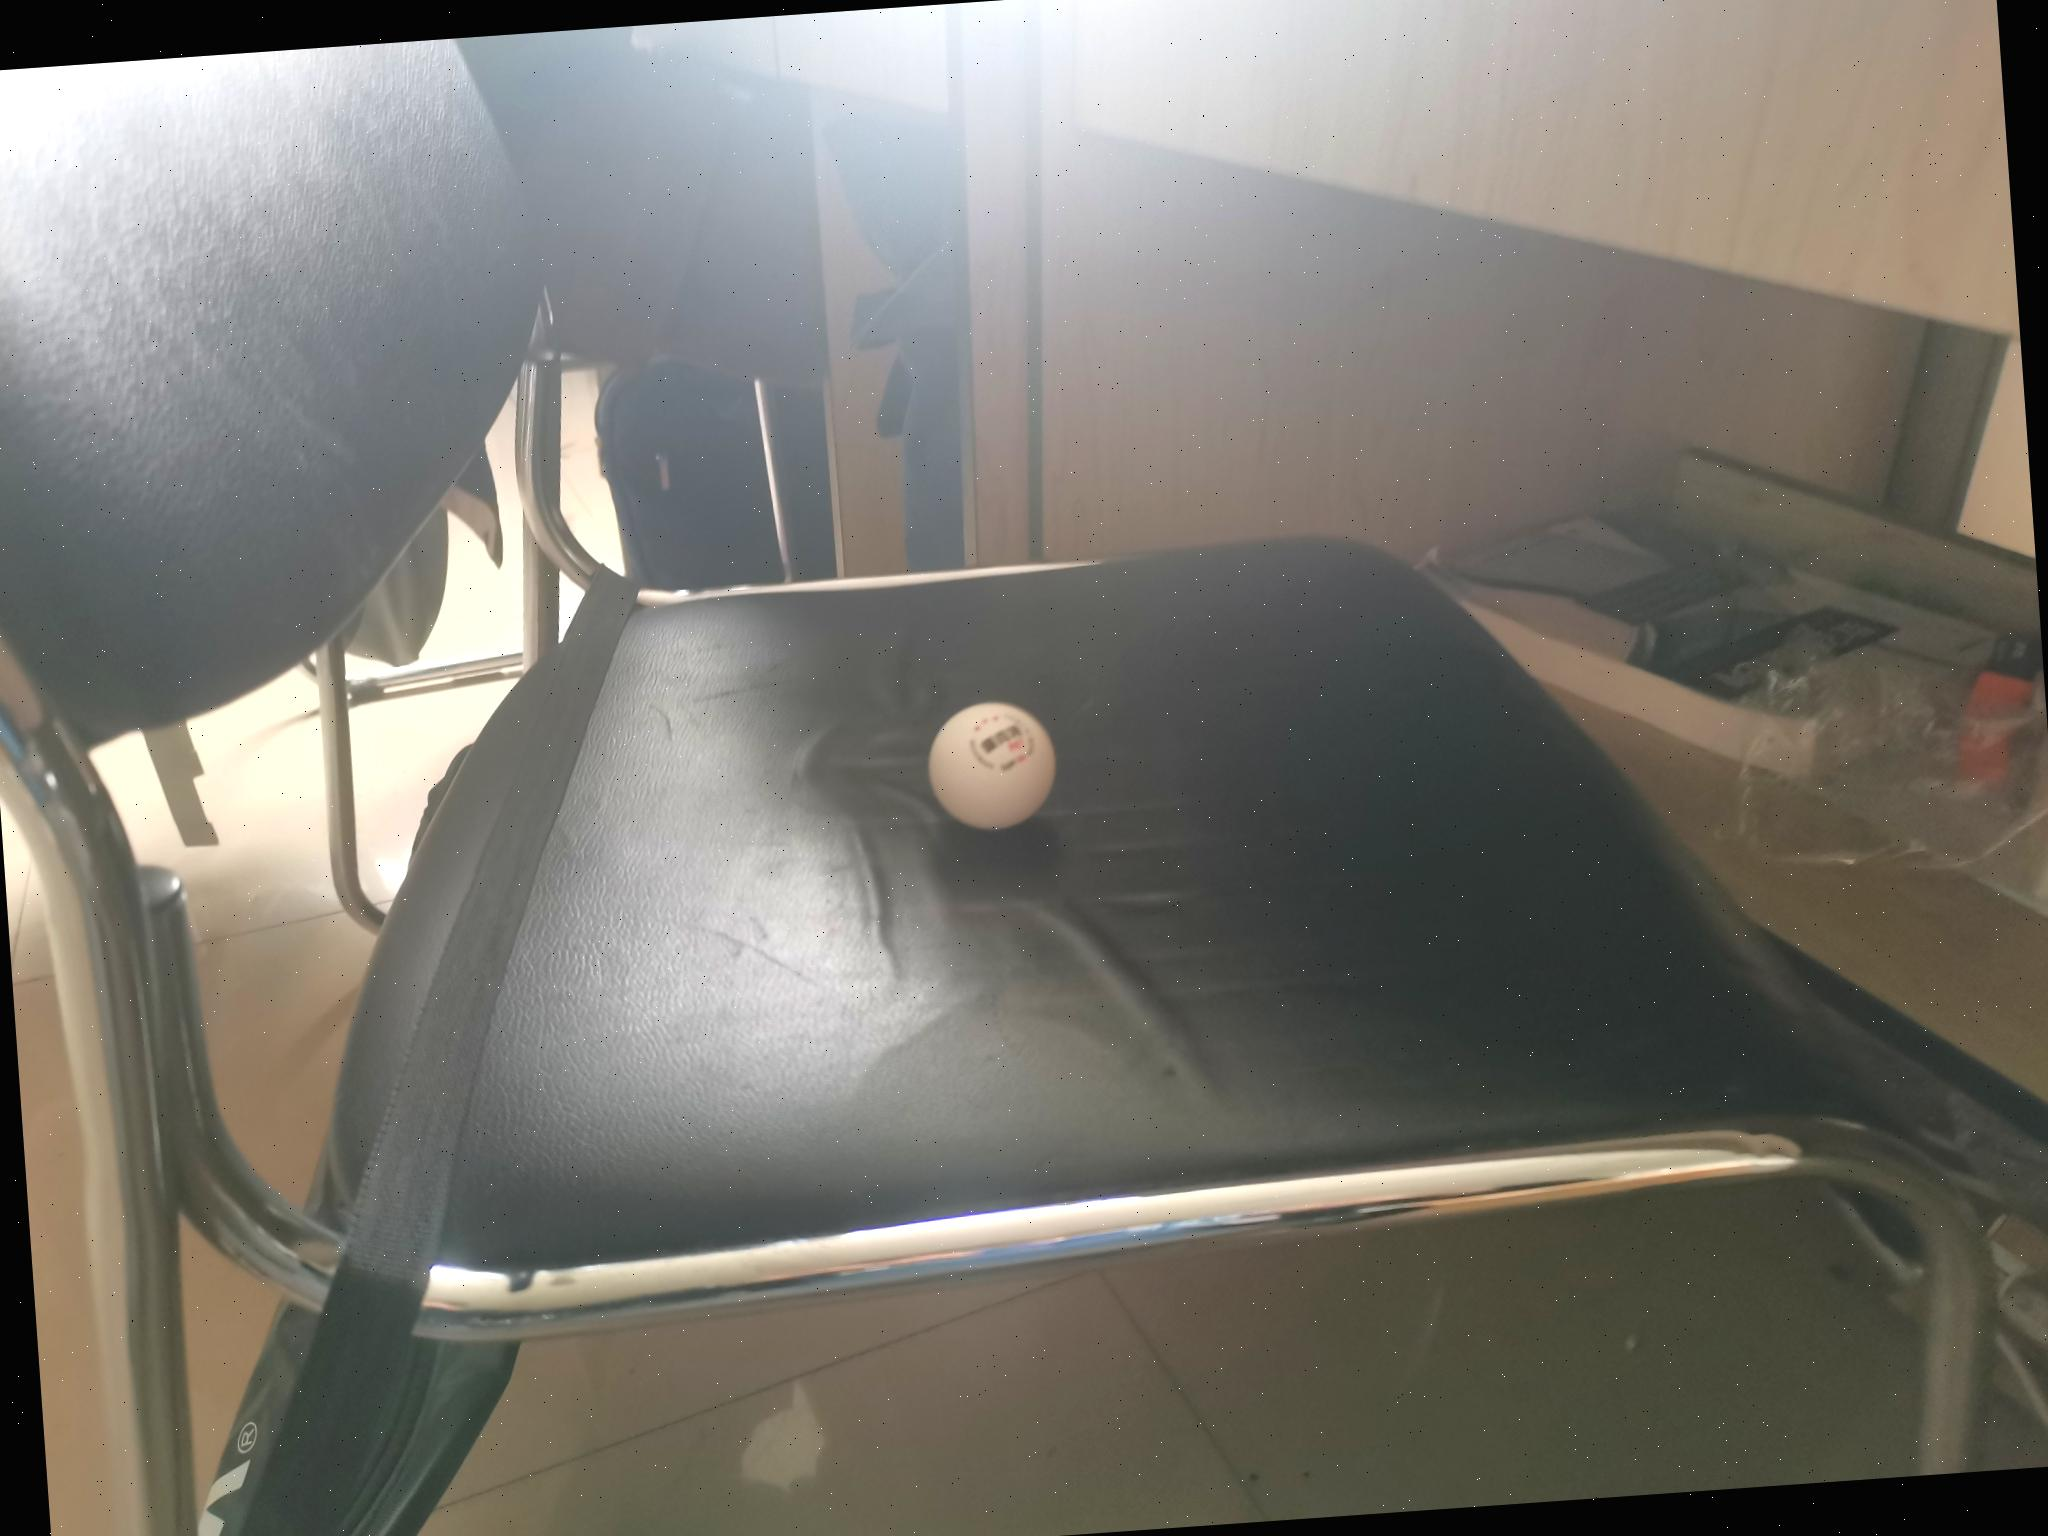ball: (921, 695, 1063, 834)
